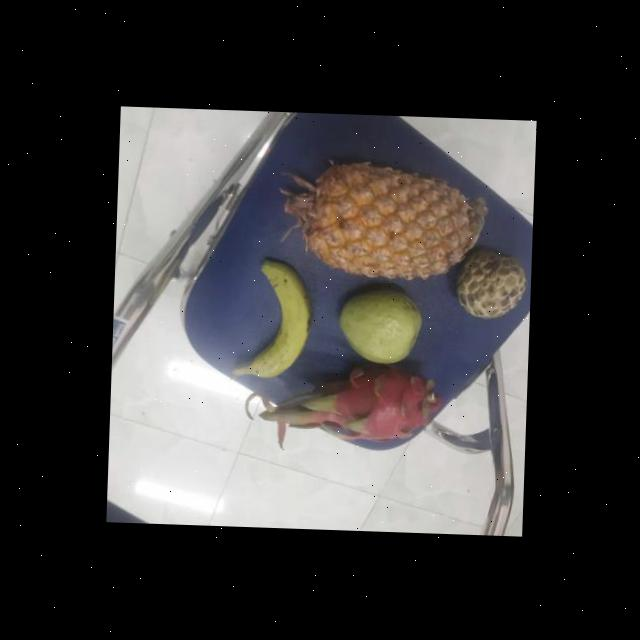Sakya fruit: (448, 248, 526, 318)
banana: (236, 262, 312, 378)
guava: (333, 285, 423, 362)
pineapple: (277, 162, 477, 278)
pitaya: (317, 359, 433, 449)
